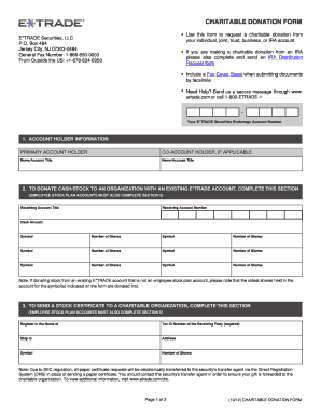textbox: (16, 217, 305, 235), (156, 345, 305, 368), (157, 153, 304, 174), (16, 202, 163, 223), (16, 154, 164, 174), (16, 318, 163, 338), (157, 318, 305, 337), (157, 332, 305, 351), (16, 347, 163, 366), (160, 202, 305, 221), (15, 333, 164, 351), (227, 244, 305, 265), (158, 244, 234, 264), (86, 231, 164, 250), (227, 231, 305, 250), (227, 259, 305, 278), (16, 231, 93, 250), (87, 245, 164, 264), (87, 260, 164, 279), (16, 245, 92, 264), (160, 231, 233, 250), (157, 260, 233, 278), (15, 260, 92, 277), (281, 102, 301, 119), (210, 207, 234, 221), (264, 208, 288, 221), (281, 208, 305, 221), (271, 103, 288, 120), (157, 209, 181, 221), (194, 208, 216, 221), (248, 208, 268, 222), (176, 209, 199, 221), (230, 208, 251, 221), (256, 105, 275, 119), (211, 105, 228, 120), (184, 105, 202, 119), (197, 105, 216, 117), (224, 105, 240, 117), (245, 105, 261, 117)
